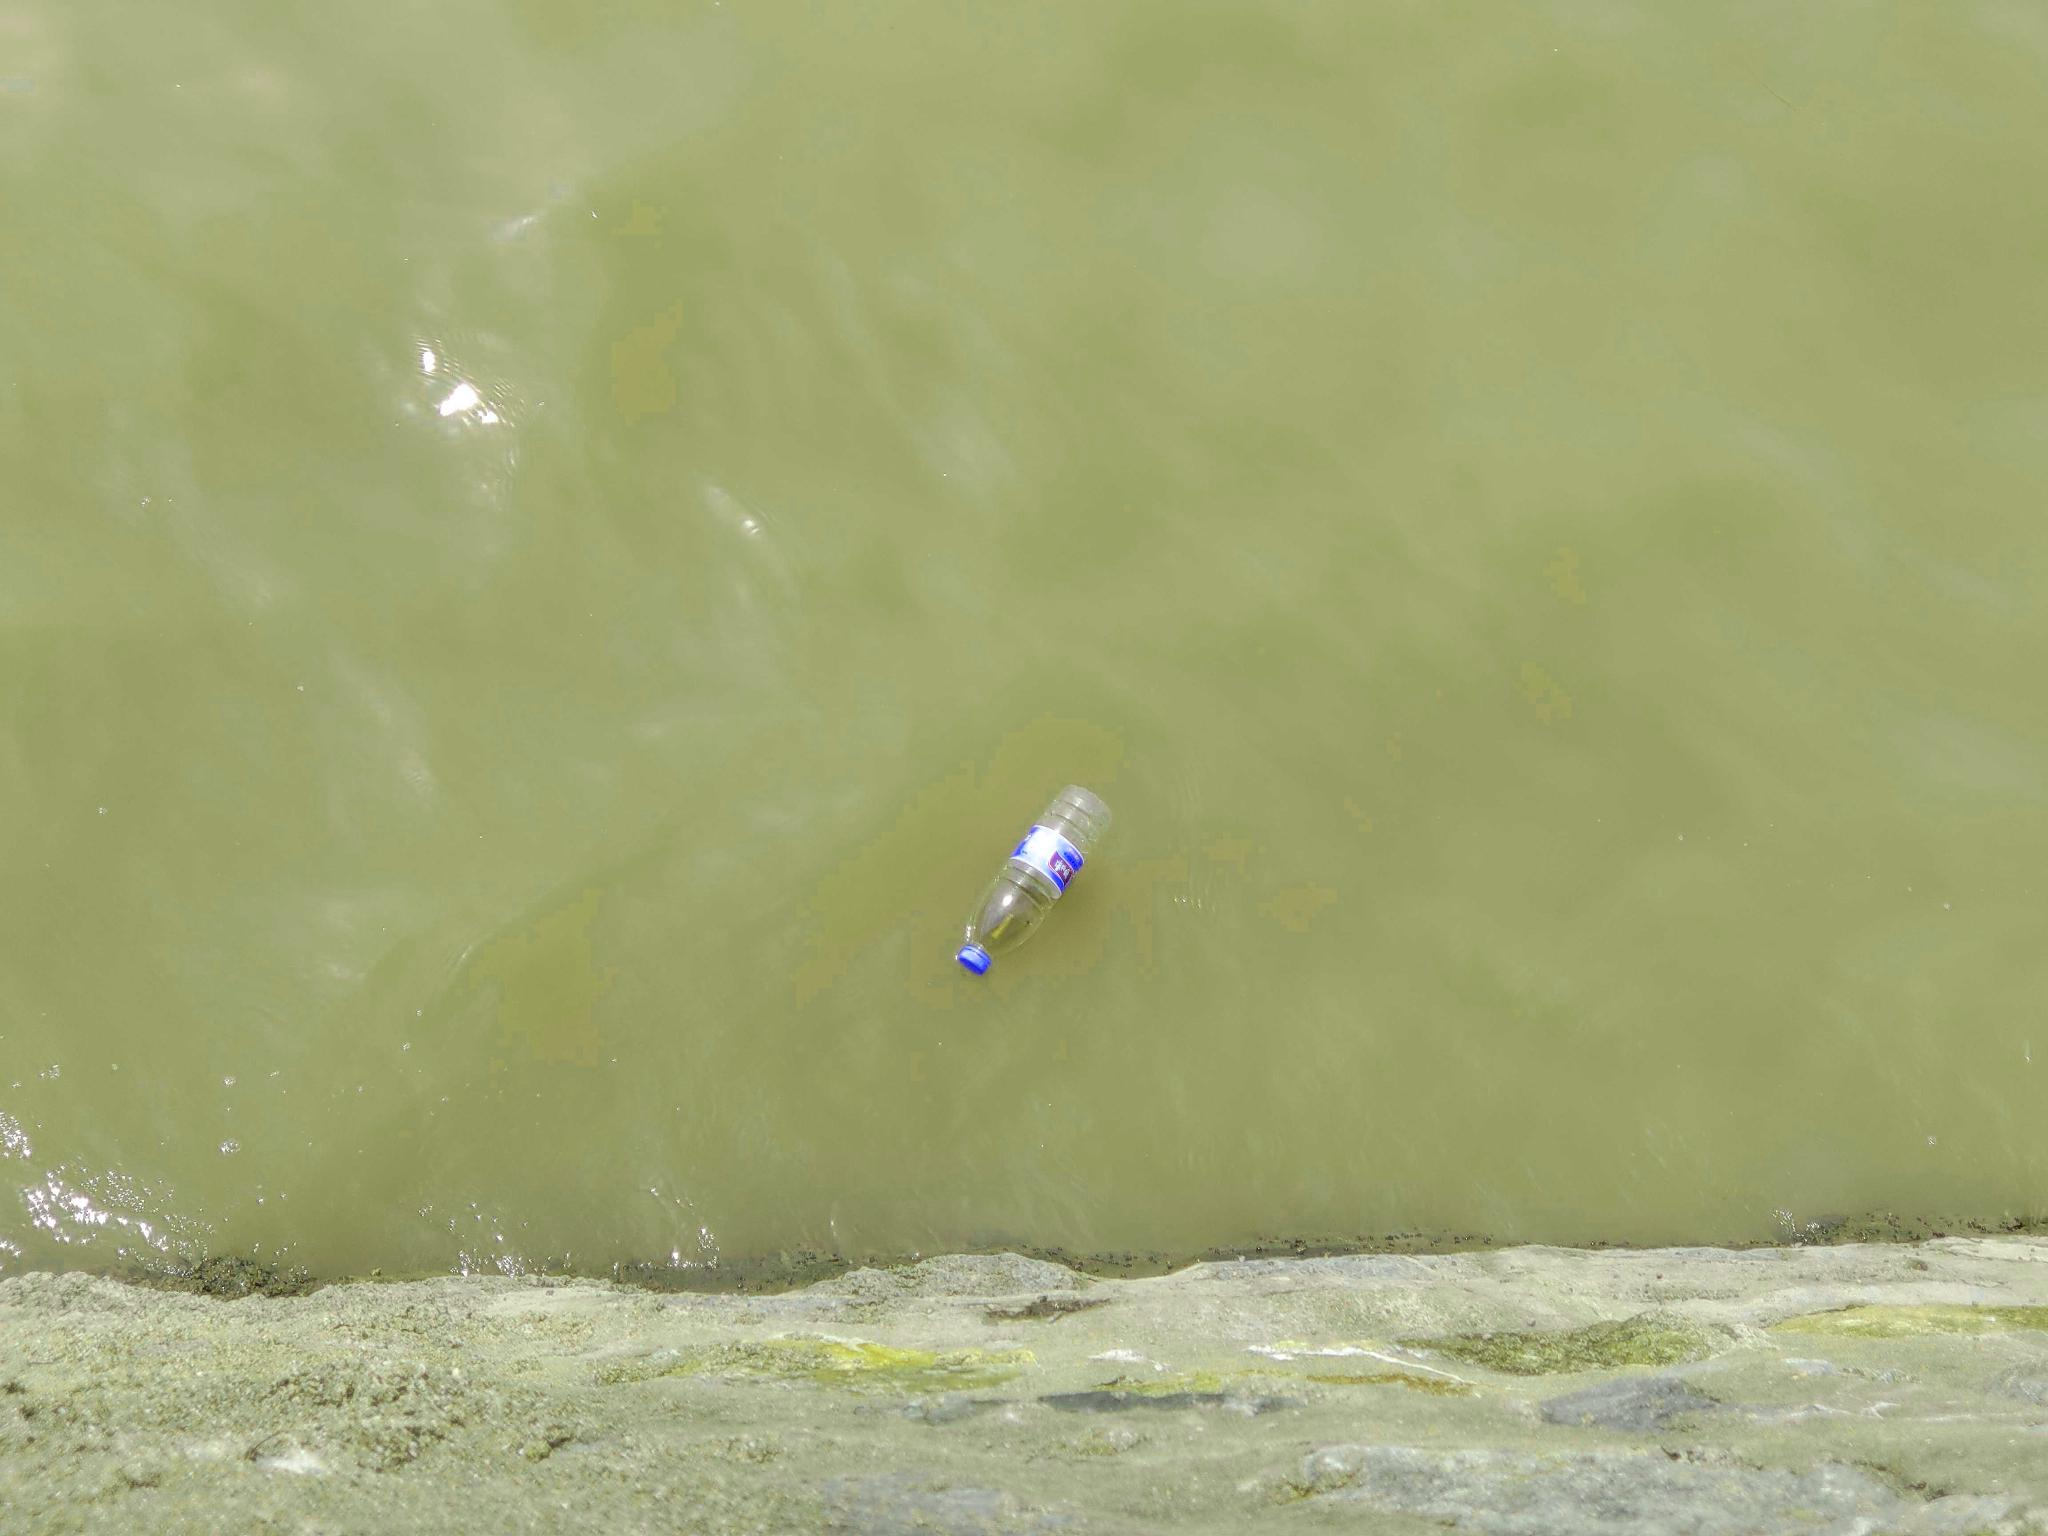Plastic: (953, 779, 1113, 981)
